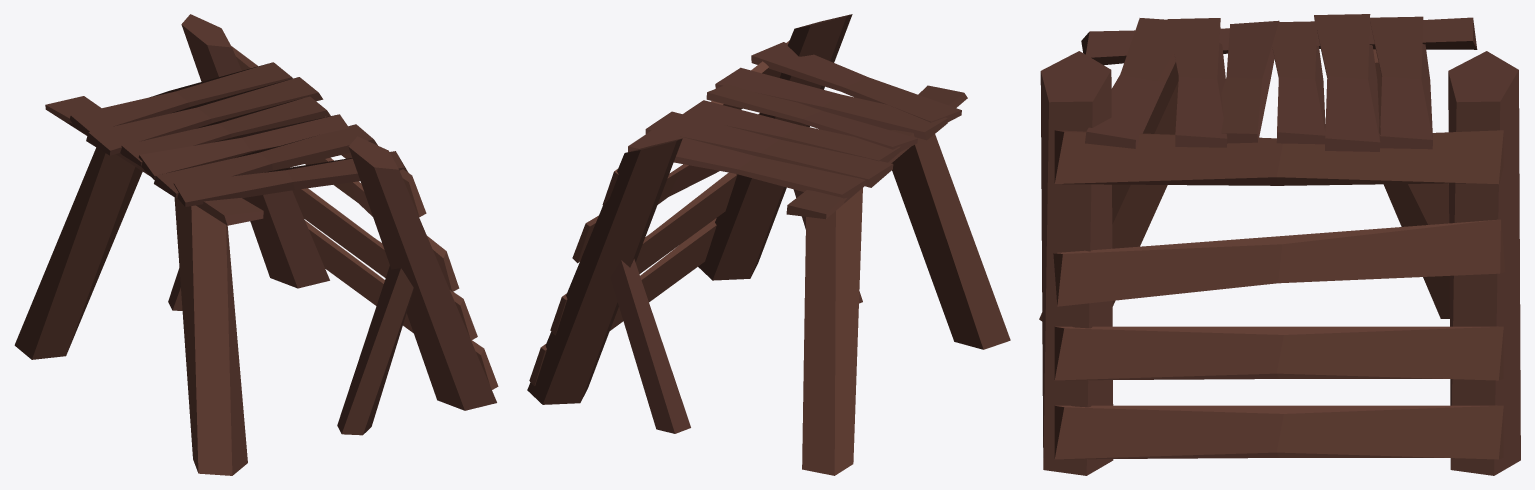
File: barricade_Platform.fbx
3 renders of one model, left to right at view 1: azimuth 30°, elevation 25°; view 2: azimuth 150°, elevation 25°; view 3: azimuth 270°, elevation 25°, orthographic. The views are drawn at different scales.
Visible parts, largest first — view 1: Cylinder.005, Cylinder.001, Cylinder.006, Cylinder.002, Cylinder.003, Cube.006, Cube.005, Cube.010, Cube.009, Cube.008, Cube.007, Cube.002 (+4 smaller); view 2: Cylinder.006, Cylinder.002, Cylinder.005, Cylinder.001, Cylinder.004, Cube.006, Cube.005, Cube.010, Cube.009, Cube.007, Cube.008, Cube.002 (+4 smaller); view 3: Cube.002, Cube.001, Cube.003, Cube.004, Cylinder.002, Cylinder.001, Cube.006, Cube.005, Cube.010, Cube.009, Cube.007, Cube.008 (+3 smaller).
Boxes of the visible parts, left/top/right/bottom form: Cylinder.005: left=174, top=198, right=247, bottom=475; Cylinder.001: left=348, top=136, right=496, bottom=410; Cylinder.006: left=14, top=147, right=142, bottom=359; Cylinder.002: left=181, top=14, right=329, bottom=288; Cylinder.003: left=337, top=266, right=413, bottom=435; Cube.006: left=86, top=77, right=323, bottom=155; Cube.005: left=68, top=62, right=292, bottom=135; Cube.010: left=173, top=151, right=408, bottom=206; Cube.009: left=154, top=124, right=377, bottom=197; Cube.008: left=138, top=114, right=348, bottom=179; Cube.007: left=120, top=96, right=330, bottom=166; Cube.002: left=292, top=188, right=477, bottom=340; Cylinder.006: left=802, top=188, right=862, bottom=475; Cylinder.002: left=527, top=138, right=682, bottom=404; Cylinder.005: left=891, top=134, right=1010, bottom=349; Cylinder.001: left=698, top=14, right=852, bottom=280; Cylinder.004: left=610, top=259, right=690, bottom=433; Cube.006: left=645, top=111, right=893, bottom=187; Cube.005: left=628, top=129, right=865, bottom=202; Cube.010: left=751, top=42, right=961, bottom=122; Cube.009: left=715, top=67, right=947, bottom=140; Cube.007: left=683, top=100, right=900, bottom=162; Cube.008: left=706, top=84, right=917, bottom=151; Cube.002: left=550, top=172, right=737, bottom=335; Cube.002: left=1054, top=326, right=1503, bottom=380; Cube.001: left=1054, top=405, right=1503, bottom=459; Cube.003: left=1053, top=219, right=1504, bottom=306; Cube.004: left=1054, top=130, right=1503, bottom=185; Cylinder.002: left=1448, top=51, right=1520, bottom=475; Cylinder.001: left=1040, top=51, right=1113, bottom=475; Cube.006: left=1314, top=14, right=1380, bottom=151; Cube.005: left=1370, top=16, right=1432, bottom=149; Cube.010: left=1085, top=18, right=1190, bottom=148; Cube.009: left=1167, top=18, right=1227, bottom=147; Cube.007: left=1272, top=21, right=1325, bottom=144; Cube.008: left=1221, top=20, right=1279, bottom=143.
Bounding box in the file's own units: 532 × 477 × 595.
